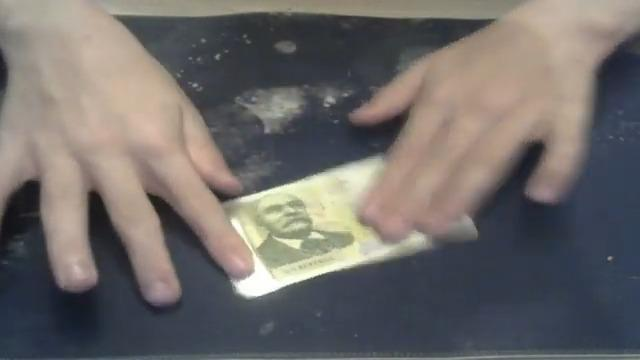10leva: (247, 190, 355, 272)
